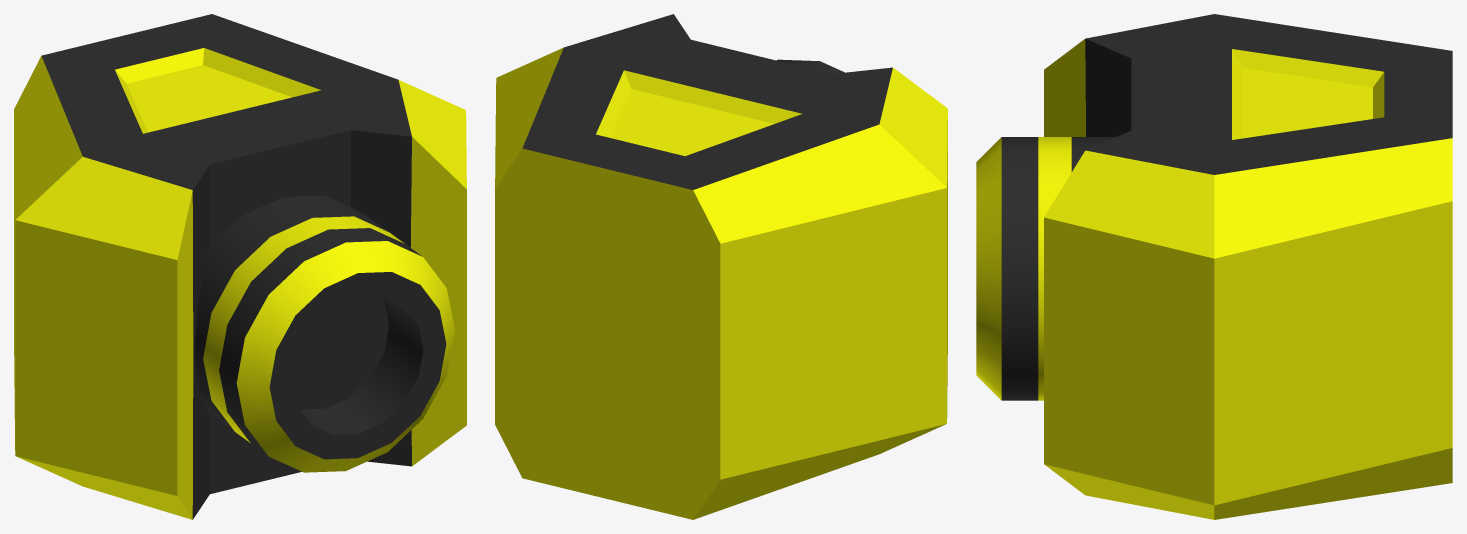
Rendered from SM_Module_Engine_B_BO.fbx.
3 views of the same model, side by side, from view 1: azimuth 30°, elevation 25°; view 2: azimuth 150°, elevation 25°; view 3: azimuth 270°, elevation 25° (orthographic). The views are drawn at different scales.
Parts seen in each view (by area): view 1: SM_Module_Engine_B_BO; view 2: SM_Module_Engine_B_BO; view 3: SM_Module_Engine_B_BO.
Boxes of the visible parts, x1,y1,x2,y2 form: SM_Module_Engine_B_BO: (14,14,466,519); SM_Module_Engine_B_BO: (495,14,947,519); SM_Module_Engine_B_BO: (976,14,1452,519).
Bounding box in the file's own units: 4 × 3.5 × 2.8.
